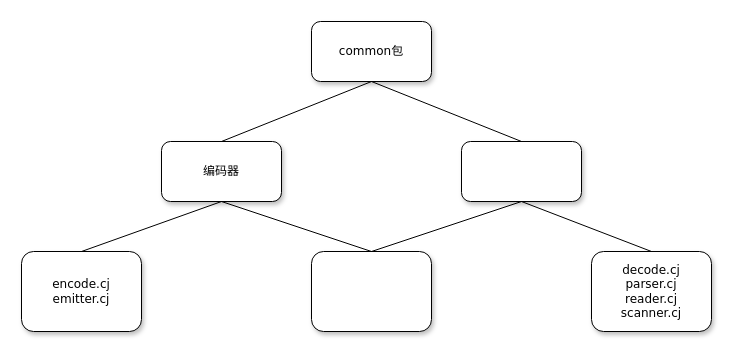
The diagram is 735 pixels wide and 356 high, and some of its shapes have lost their labels. The centre of each missing label's shape, as x and y in pixels:
Api.cj extends.cj resolve.cj: (x=372, y=292)
解码器: (x=522, y=172)
